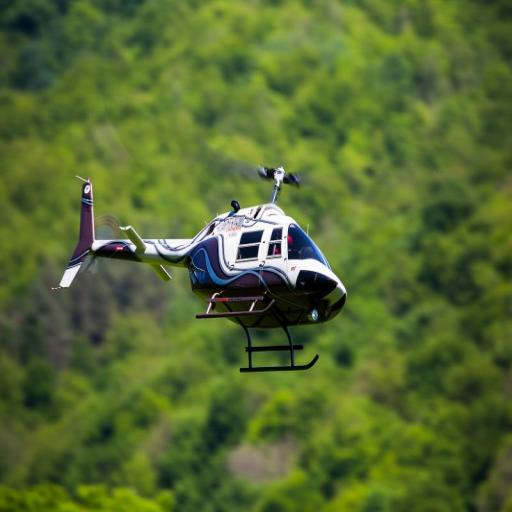helicopter: (53, 140, 351, 379)
